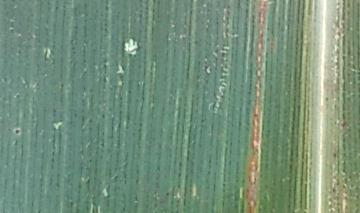tarspot: (11, 126, 26, 136), (337, 117, 349, 129), (330, 150, 339, 162)
